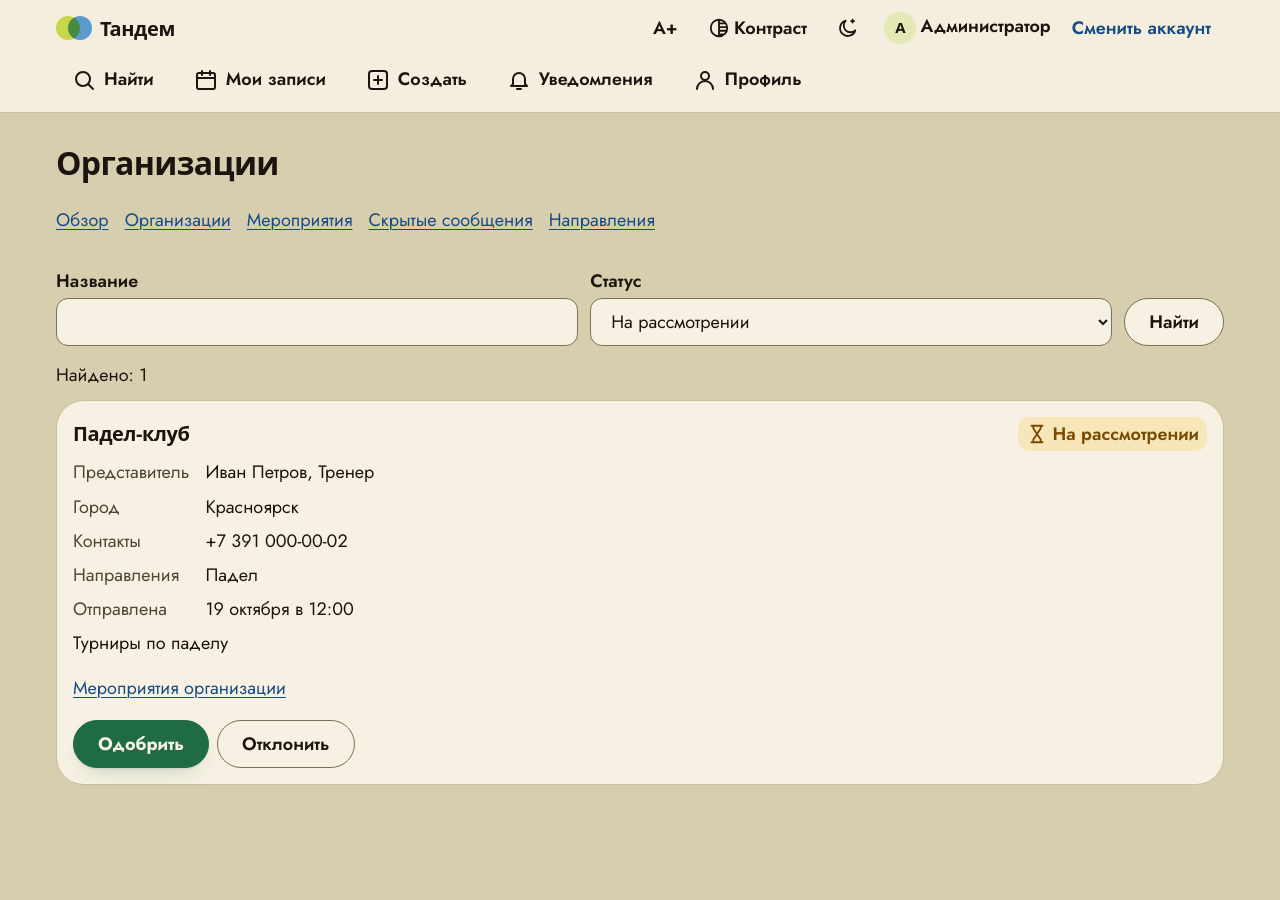
Scenario: админка › «Одобрить» отправляет решение, заявка показывает новый статус
expect the text "Иван Петров, Тренер" is shown: met, box [205,460,374,486]
Click the button "Одобрить". click: (141, 744)
box: [73,720,209,768]
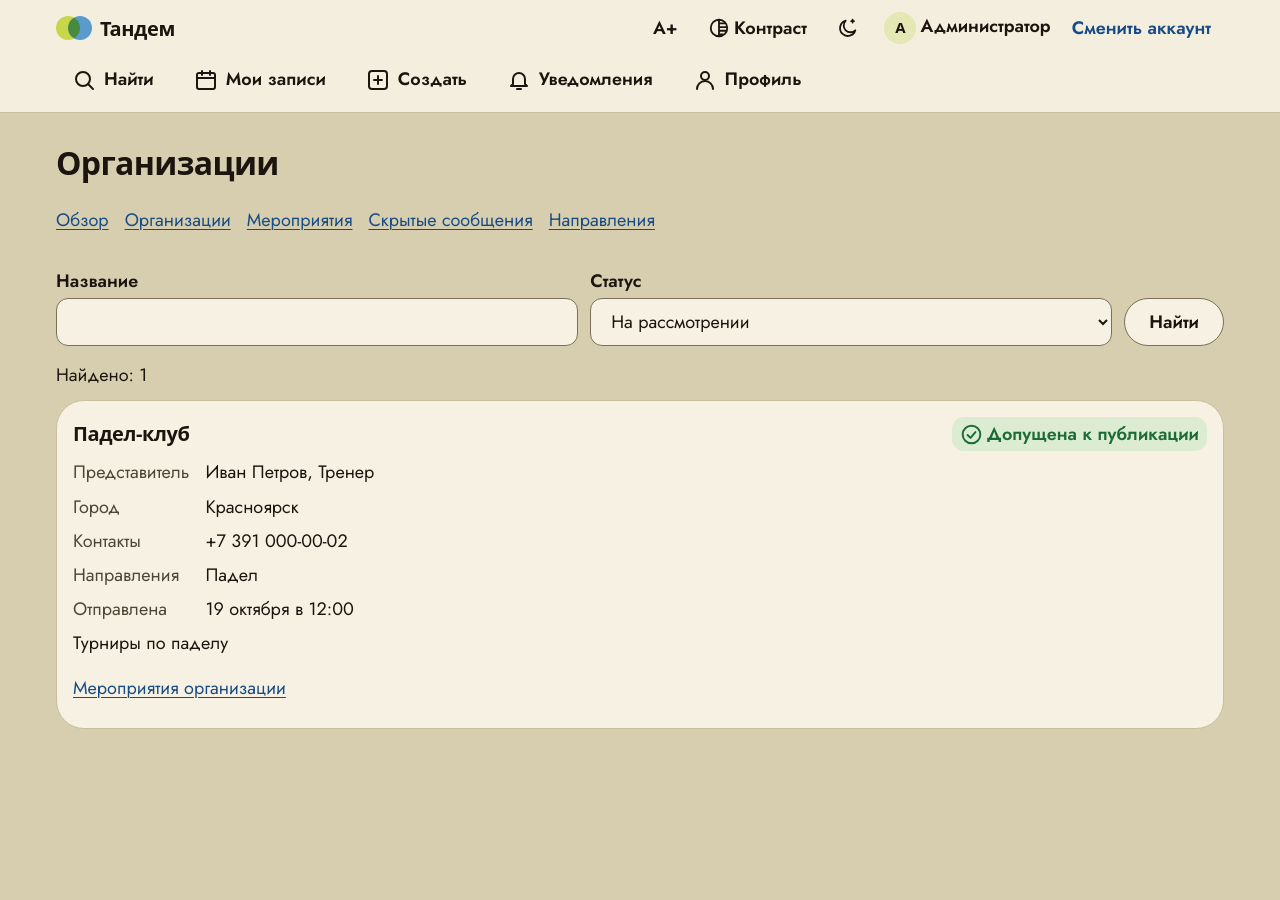
expect the text "Допущена к публикации" is shown: met, box [952,417,1207,452]
expect the button "Одобрить" is gone: met
